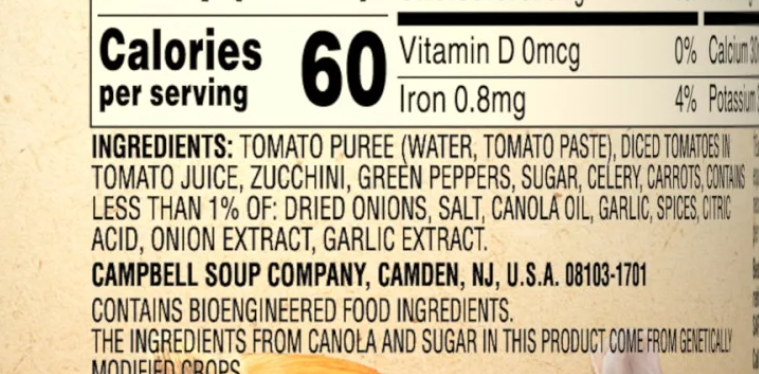l: (85, 130, 749, 255)
